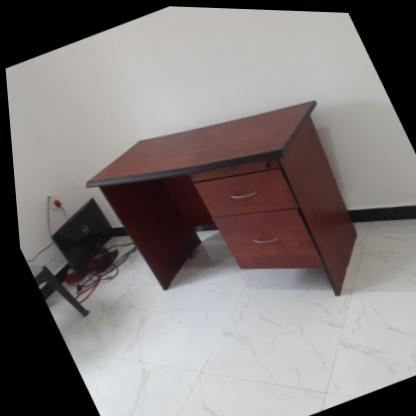Table: (59, 52, 414, 385)
